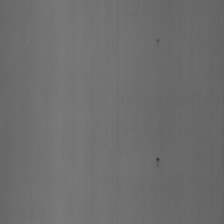inclusion: (155, 156, 160, 169), (155, 36, 159, 47)
